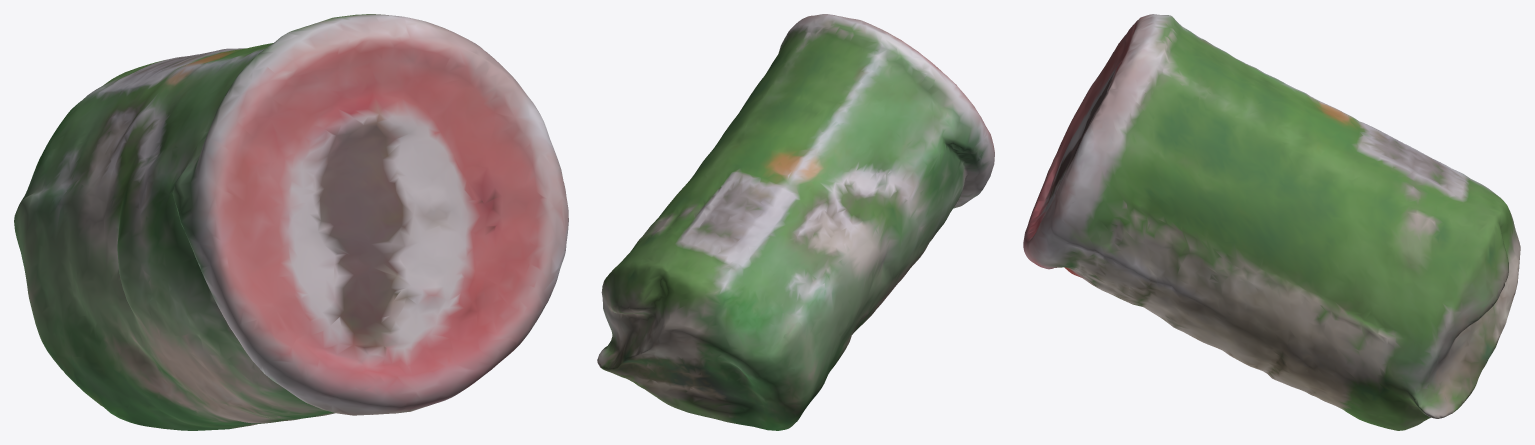
The picture shows the model from 3 angles, left to right: view 1: azimuth 30°, elevation 25°; view 2: azimuth 150°, elevation 25°; view 3: azimuth 270°, elevation 25°; orthographic projection. The views are drawn at different scales.
Visible parts, largest first — view 1: geometry_0; view 2: geometry_0; view 3: geometry_0.
Boxes of the visible parts, x1,y1,x2,y2 form: geometry_0: (14,14,568,430); geometry_0: (597,14,994,430); geometry_0: (1023,14,1520,430).
Size of the model in its own units: 1.29 by 1.6 by 2.
